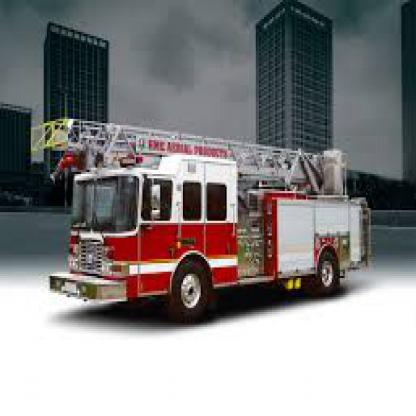fire-truck: (8, 93, 406, 331)
